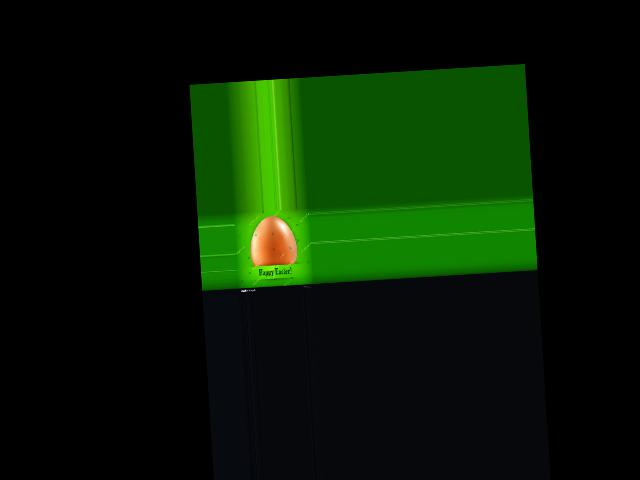egg: (248, 214, 298, 266)
